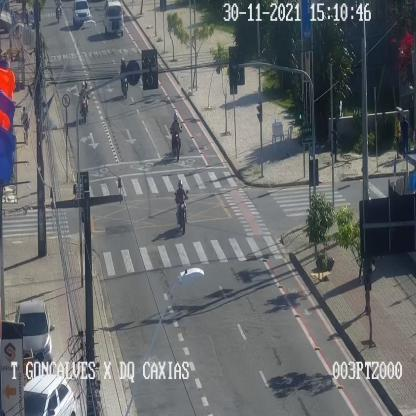car: (16, 301, 52, 372), (23, 374, 76, 415), (104, 1, 123, 35), (73, 1, 91, 27)
motorbike: (175, 180, 188, 233), (170, 112, 182, 161), (79, 80, 90, 122), (119, 57, 128, 98), (54, 1, 63, 23)
person: (358, 256, 375, 311), (400, 114, 410, 159), (330, 114, 339, 162), (21, 106, 29, 144), (394, 113, 400, 158), (22, 10, 28, 29), (15, 8, 19, 34), (10, 9, 14, 34), (29, 10, 34, 28)
